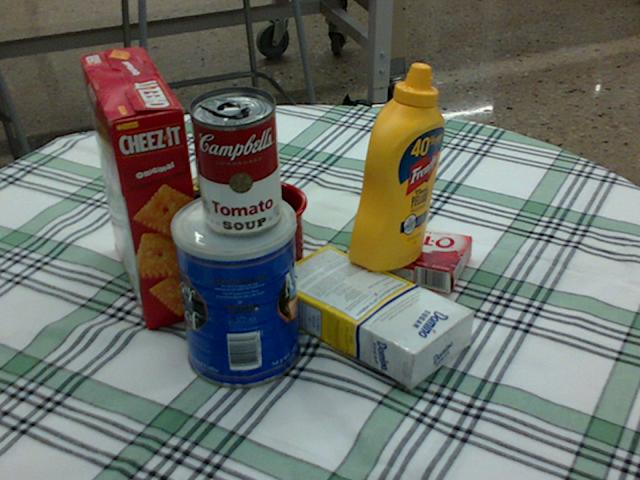cracker_box: (79, 49, 210, 327)
gelatin_box: (367, 221, 471, 294)
master_chef_can: (169, 190, 301, 388)
mug: (198, 179, 305, 289)
mustard_bottle: (348, 63, 443, 270)
potted_meat_can: (168, 160, 286, 249)
sugar_box: (266, 245, 475, 384)
tomato_soup_can: (187, 85, 280, 234)
tuna_fish_can: (194, 141, 276, 206)
